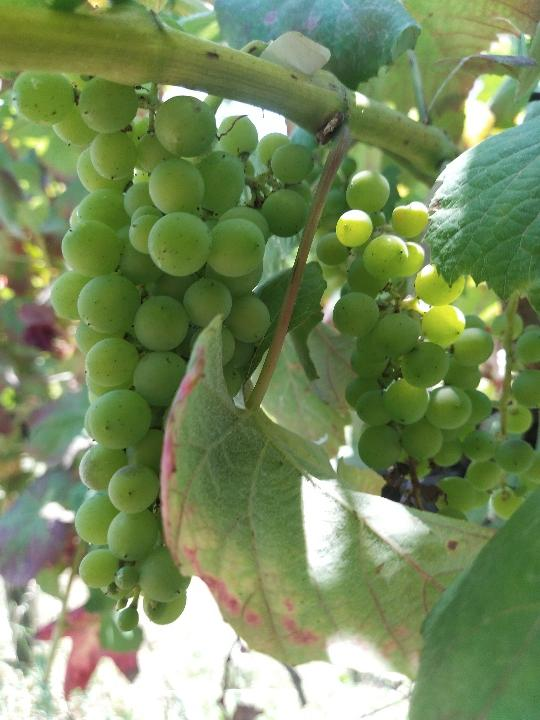grape: (12, 70, 318, 630), (318, 172, 496, 513)
